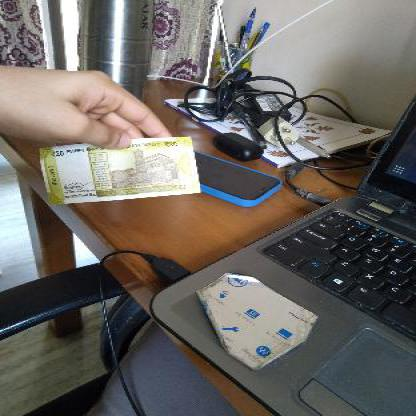New20Back: (36, 140, 194, 199)
